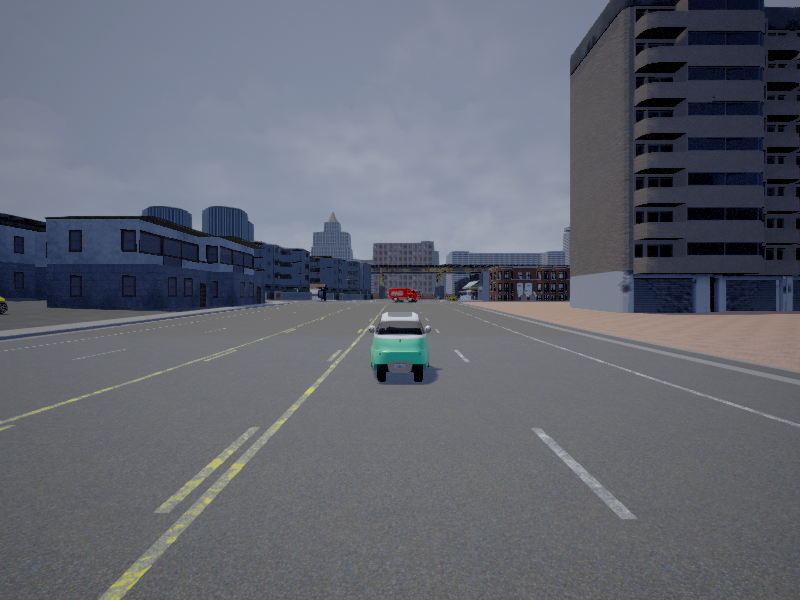Benign: (371, 313, 431, 384), (390, 288, 420, 303), (1, 295, 8, 316)
